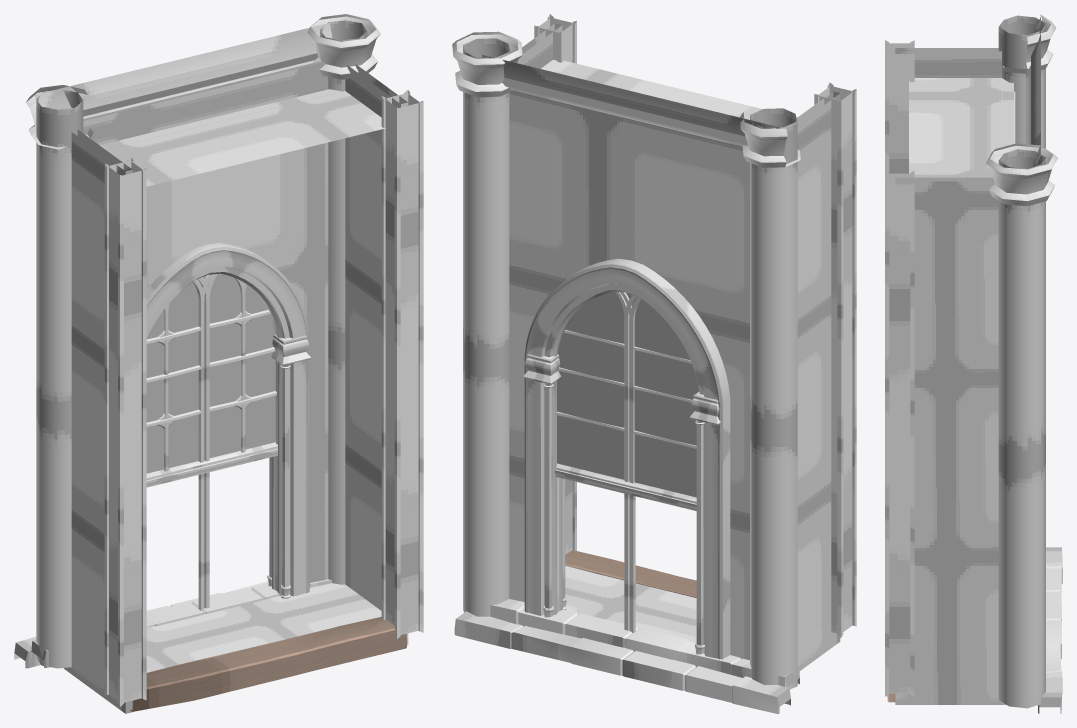
The model's file is SM_GeneralS_Gate_GlassWindow.fbx.
3 views of the same model, side by side, from view 1: azimuth 30°, elevation 25°; view 2: azimuth 150°, elevation 25°; view 3: azimuth 270°, elevation 25° (orthographic). The views are drawn at different scales.
Visible parts, largest first — view 1: SM_GeneralS_Gate_GlassWindow_LOD0; view 2: SM_GeneralS_Gate_GlassWindow_LOD0; view 3: SM_GeneralS_Gate_GlassWindow_LOD0.
Part boxes in pixels (x1,y1,x2,y2): SM_GeneralS_Gate_GlassWindow_LOD0: (14,14,423,713); SM_GeneralS_Gate_GlassWindow_LOD0: (452,14,856,713); SM_GeneralS_Gate_GlassWindow_LOD0: (885,14,1062,713).
Bounding box in the file's own units: 595 × 279 × 954.
